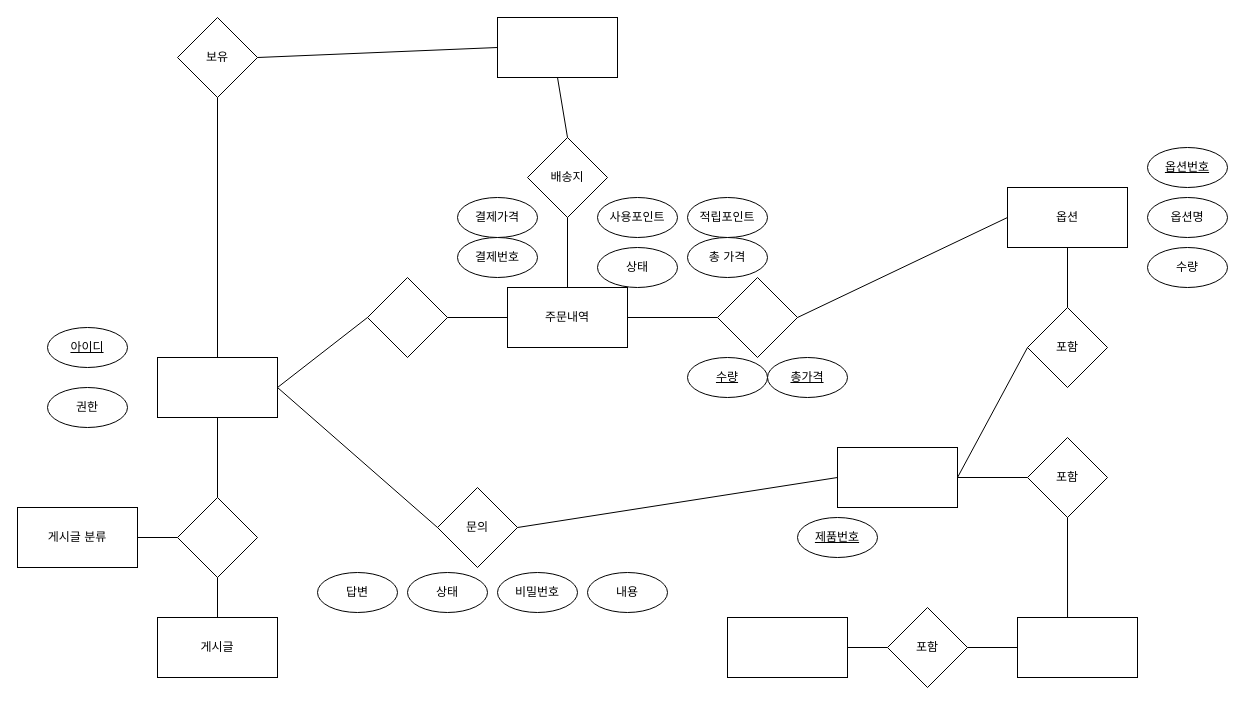
The diagram is 1245 pixels wide and 705 high, and some of its shapes have lost their labels. Each missing label, with the box of its shape:
등록: (176, 496, 258, 578)
제품: (836, 446, 958, 508)
제품 중분류: (1016, 616, 1138, 678)
제품분류: (726, 616, 848, 678)
주문: (366, 276, 448, 358)
주문목록: (716, 276, 798, 358)
주소록: (496, 16, 618, 78)
회원: (156, 356, 278, 418)
